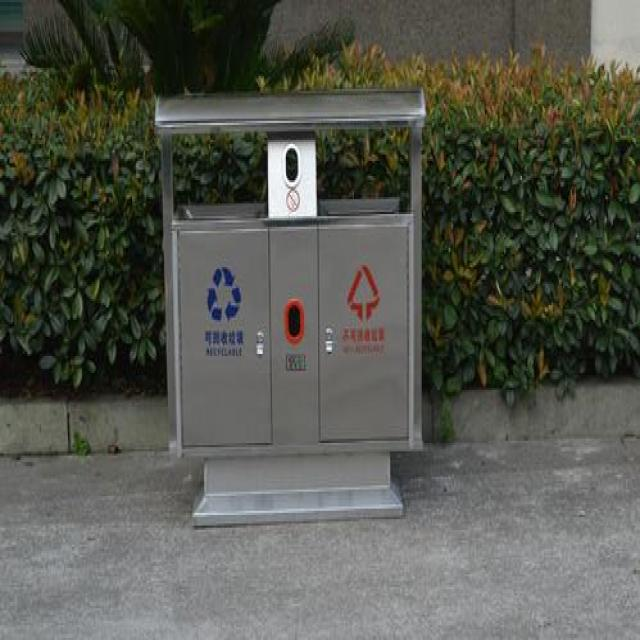garbage_bin: (152, 82, 424, 526)
